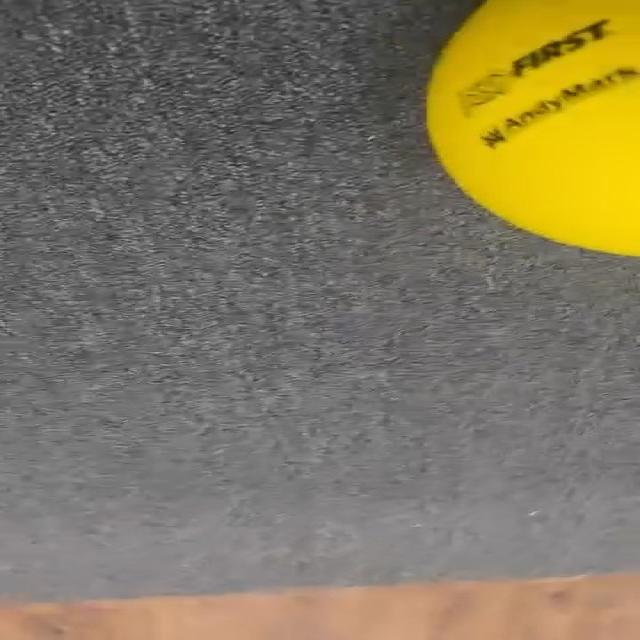Fuels: (427, 0, 638, 255)
